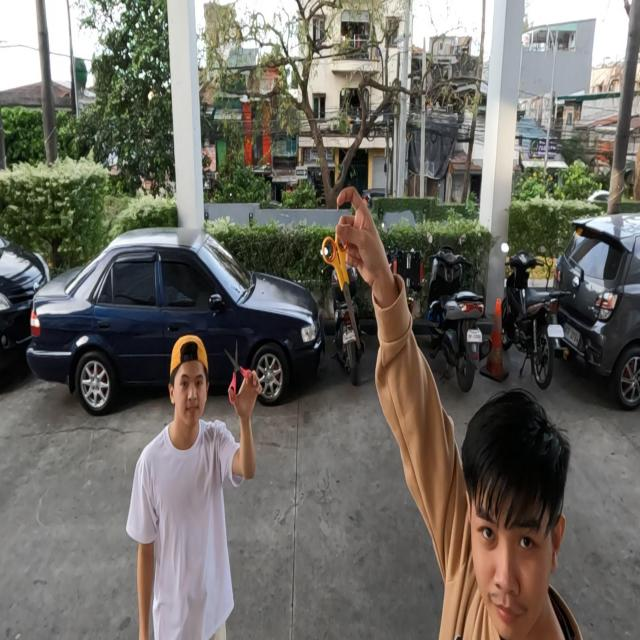scissor: (322, 228, 361, 348), (225, 338, 255, 404)
